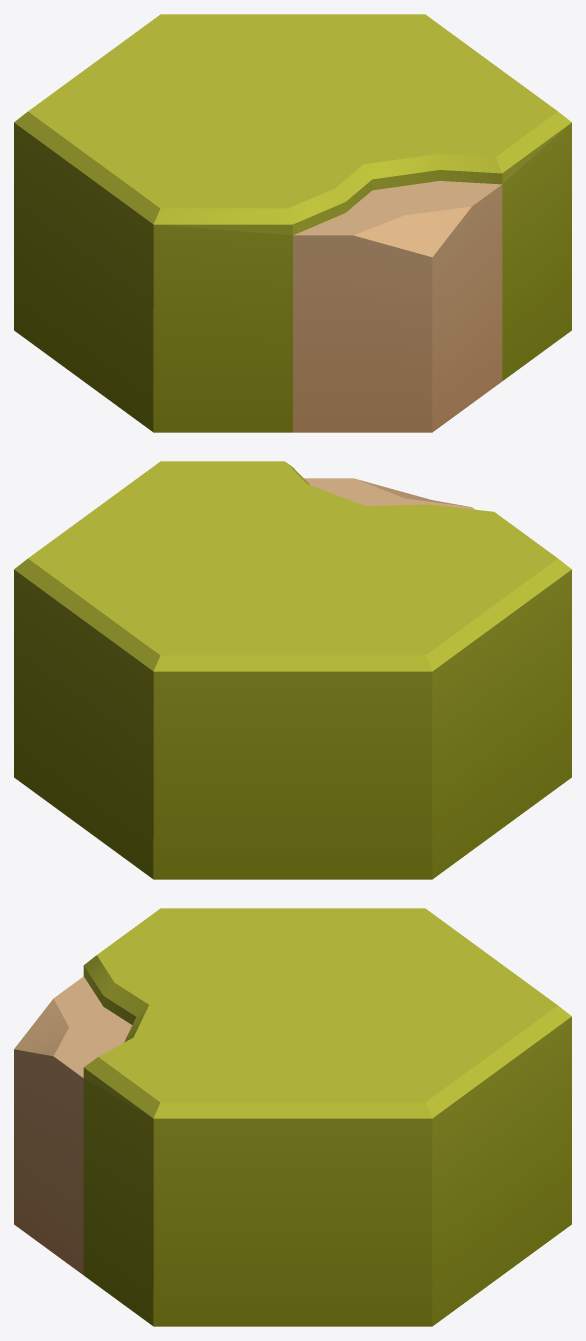
The model's file is hex-coast-e-waterless.glb.
3 renders of one model, top to bottom at view 1: azimuth 30°, elevation 25°; view 2: azimuth 150°, elevation 25°; view 3: azimuth 270°, elevation 25°, orthographic.
Visible parts, largest first — view 1: hex_coast_E_waterless; view 2: hex_coast_E_waterless; view 3: hex_coast_E_waterless.
Boxes of the visible parts, x1,y1,x2,y2 form: hex_coast_E_waterless: (14,14,571,432); hex_coast_E_waterless: (14,461,571,879); hex_coast_E_waterless: (14,908,571,1326).
Bounding box in the file's own units: 2 × 1 × 2.31.
1 material, 1 textured.
